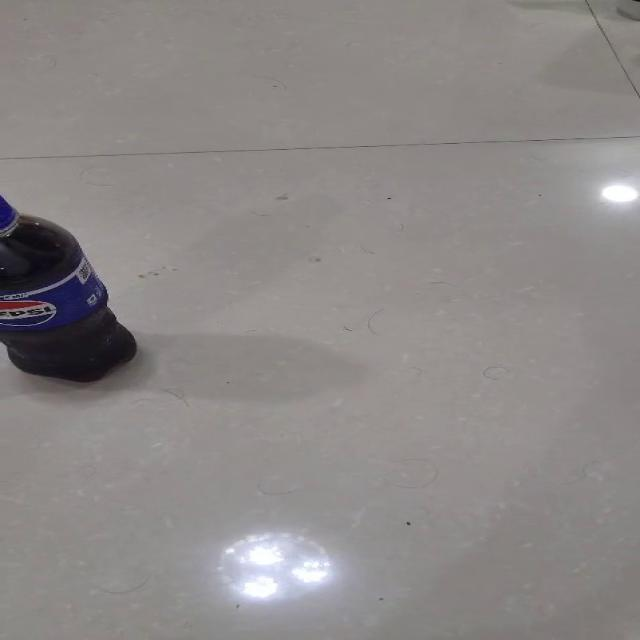plastic: (0, 194, 138, 382)
